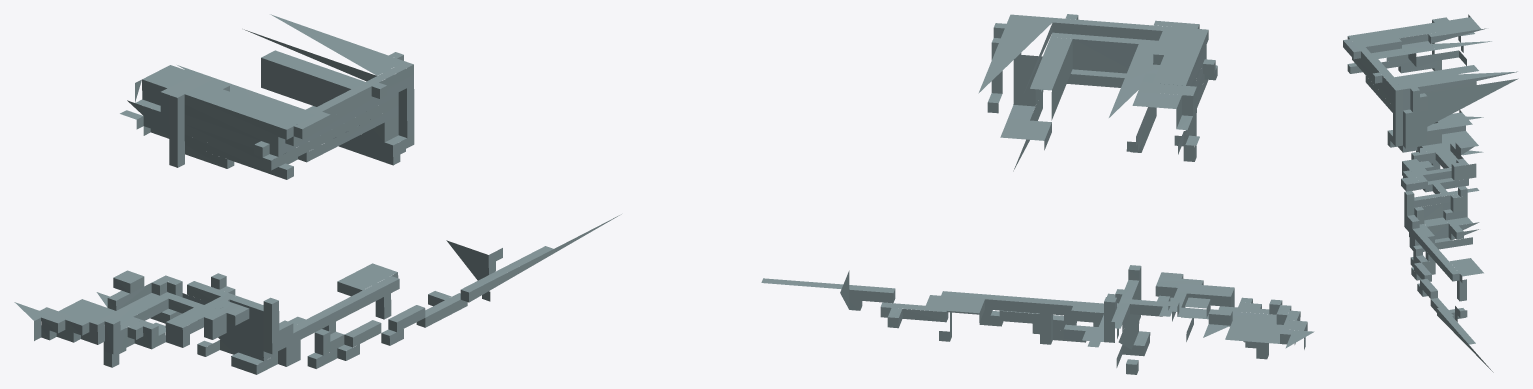
The picture shows the model from 3 angles, left to right: view 1: azimuth 30°, elevation 25°; view 2: azimuth 150°, elevation 25°; view 3: azimuth 270°, elevation 25°; orthographic projection. The views are drawn at different scales.
Visible parts, largest first — view 1: measured-industrial; view 2: measured-industrial; view 3: measured-industrial.
Boxes of the visible parts, x1,y1,x2,y2 form: measured-industrial: (14,14,621,374); measured-industrial: (761,14,1314,374); measured-industrial: (1343,14,1518,372).
Bounding box in the file's own units: 65.71 × 29.05 × 22.77.
